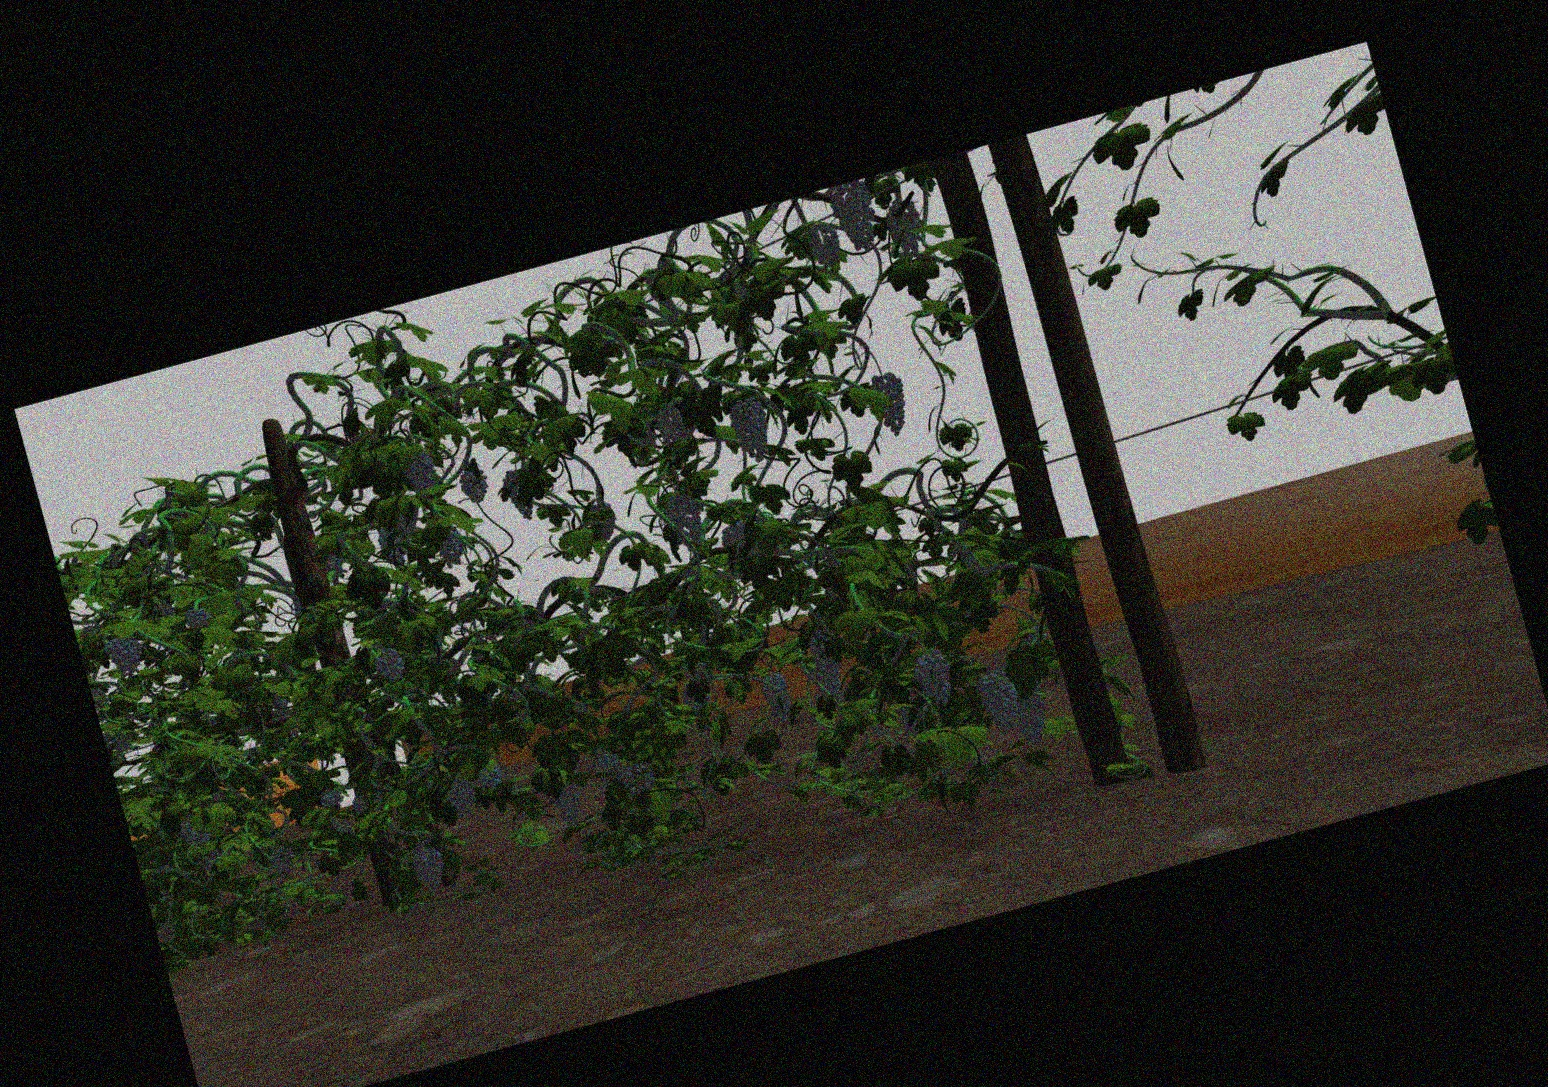grape: (835, 184, 876, 251), (734, 396, 770, 461), (915, 648, 953, 709), (873, 371, 907, 434), (981, 673, 1017, 732), (669, 492, 703, 549), (1015, 691, 1050, 746), (888, 199, 922, 255), (807, 222, 841, 271), (812, 627, 840, 681), (555, 776, 583, 828), (414, 845, 446, 891), (403, 449, 438, 492), (107, 633, 142, 673), (506, 468, 532, 522), (763, 673, 790, 721), (445, 774, 475, 814), (375, 645, 405, 683), (458, 468, 489, 504), (438, 525, 463, 567), (658, 407, 683, 447), (622, 761, 653, 793), (815, 668, 843, 702), (589, 745, 619, 775), (271, 843, 296, 876), (185, 605, 211, 631), (478, 765, 503, 788), (318, 787, 343, 806)
